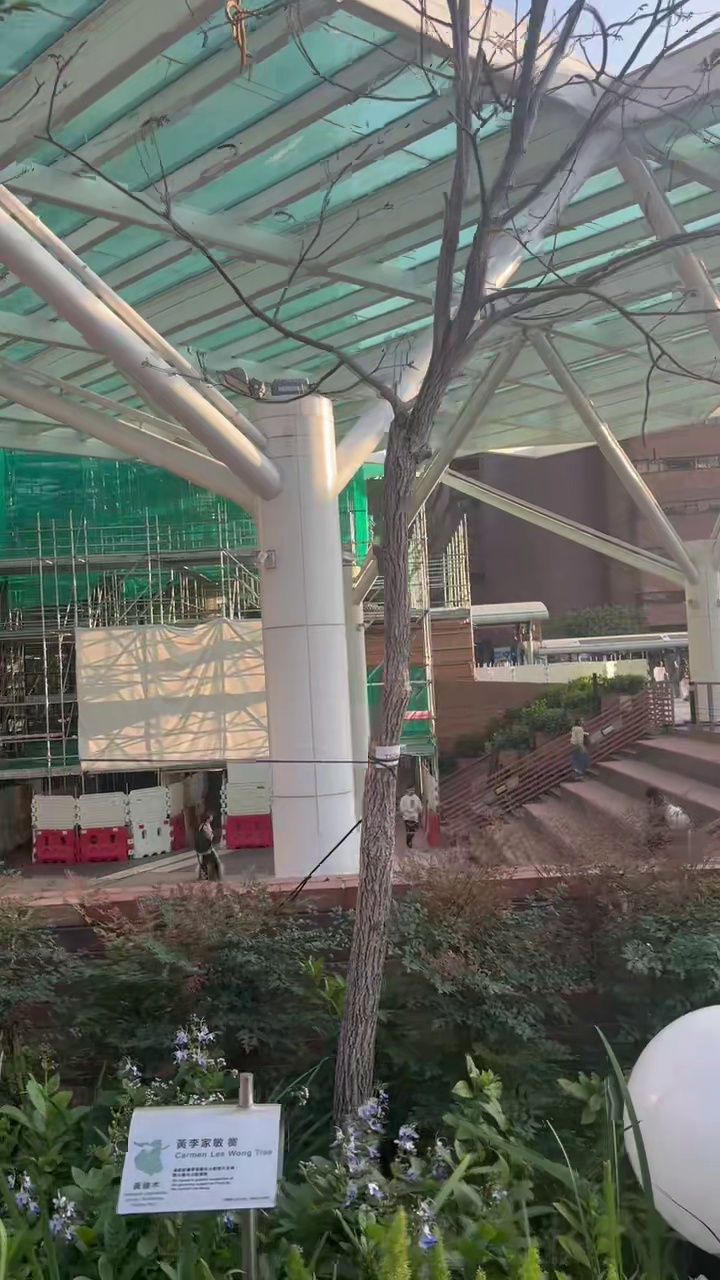Tabebuia chrysantha: (185, 0, 544, 1122)
